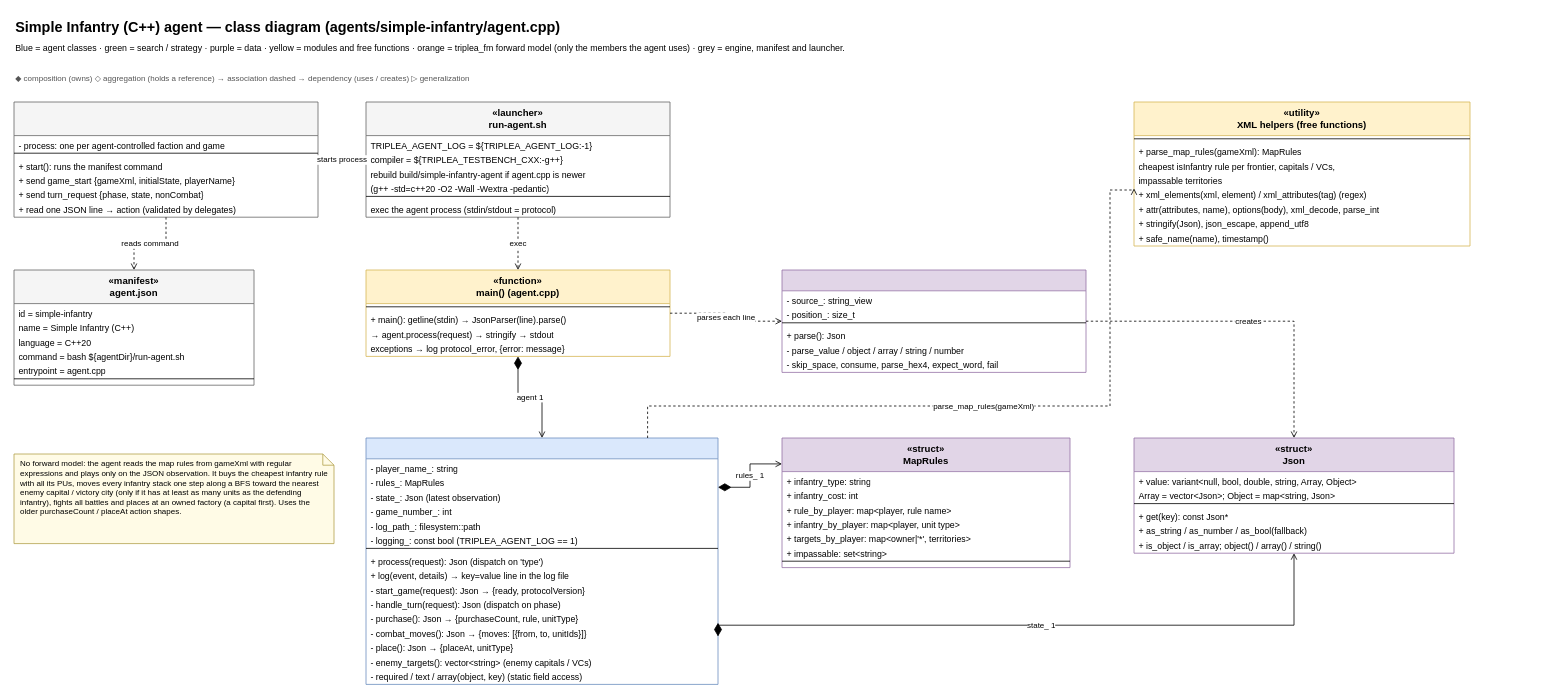
Image size: 1548x698. Some labels were removed from this diagram. The box of each missing label's shape, as (x1, y1, x2, y2) in pixels:
JsonParser: (781, 269, 1086, 372)
SimpleInfantryAgent: (365, 437, 718, 684)
«engine» ExternalAgentPlayer (TripleA engine, Java): (13, 101, 318, 217)
